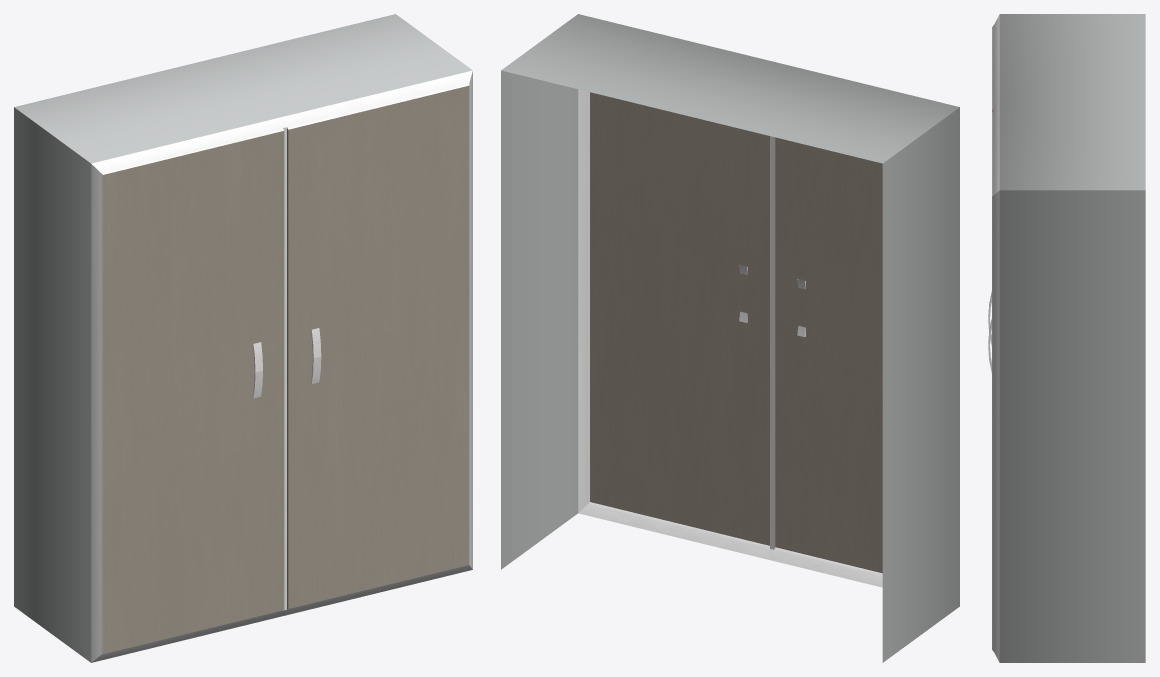
Rendered from Closet.fbx.
3 renders of one model, left to right at view 1: azimuth 30°, elevation 25°; view 2: azimuth 150°, elevation 25°; view 3: azimuth 270°, elevation 25°, orthographic. The views are drawn at different scales.
Parts seen in each view (by area): view 1: Closet; view 2: Closet; view 3: Closet.
Boxes of the visible parts, <box> form: Closet: <box>14,14,472,662</box>; Closet: <box>501,14,959,662</box>; Closet: <box>988,14,1145,662</box>.
Size of the model in its own units: 200 by 250 by 75.51.
